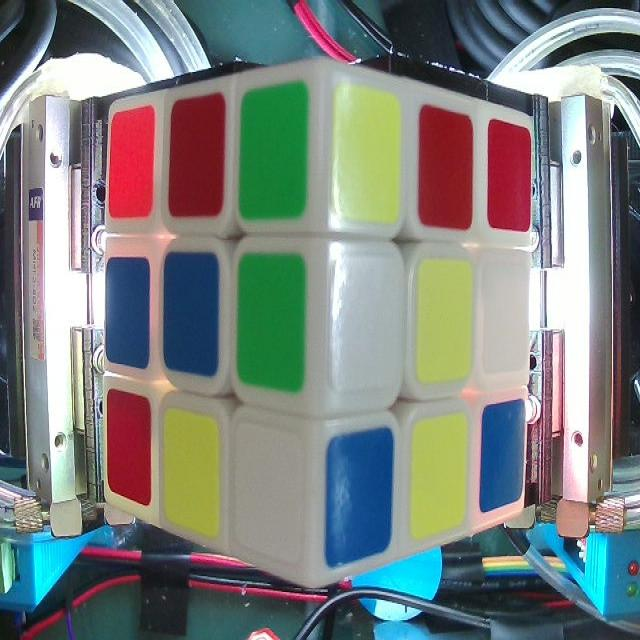b: (327, 428, 392, 562), (166, 254, 217, 374), (105, 260, 149, 366), (483, 399, 523, 509)
g: (240, 85, 310, 219), (240, 257, 304, 389)
o: (110, 109, 153, 218)
r: (172, 94, 224, 216), (423, 108, 475, 228), (107, 390, 154, 508), (489, 118, 531, 232)
w: (236, 423, 305, 561), (333, 257, 400, 387), (481, 264, 532, 372)
y: (336, 84, 402, 224), (165, 411, 223, 536), (418, 260, 474, 380), (411, 414, 467, 527)
